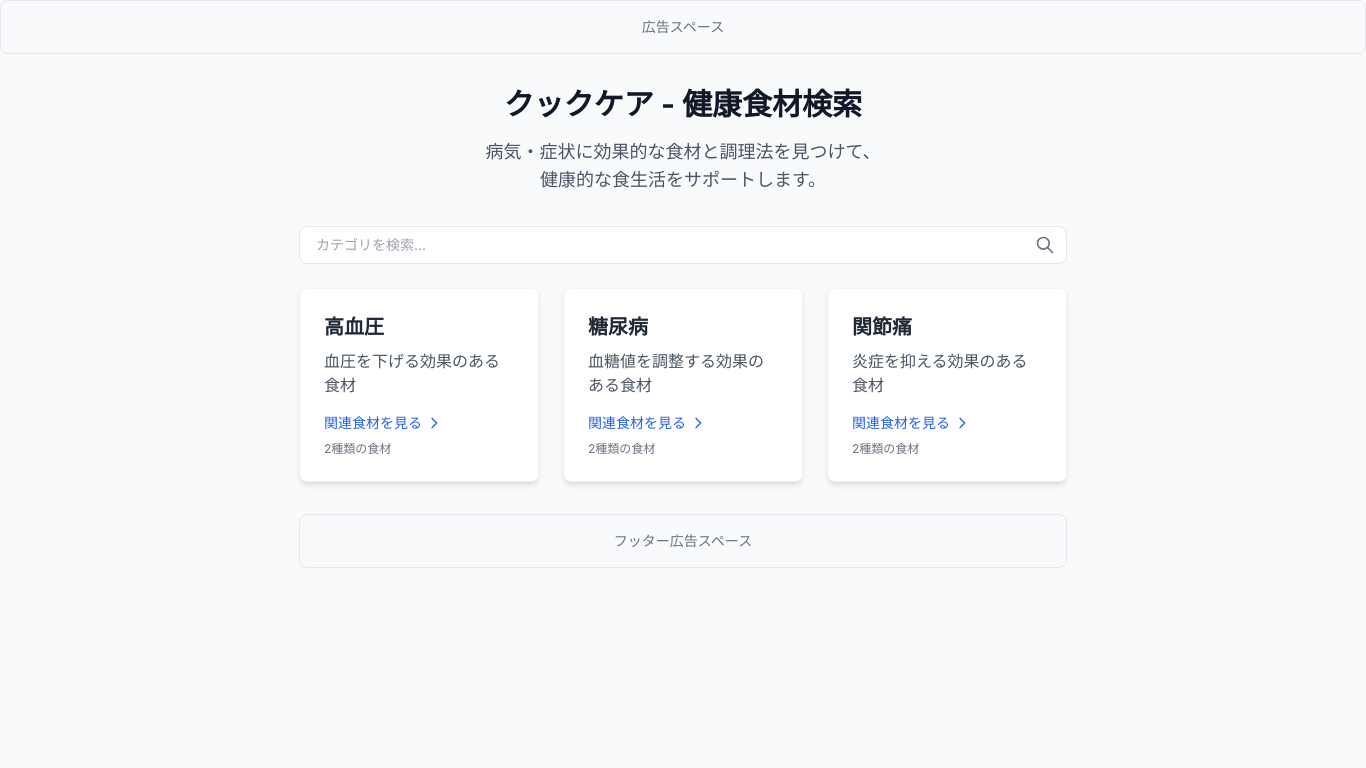
Scenario: Home Page › shows no results message when search has no matches
The image size is (1366, 768).
Expected: the heading "高血圧" is shown, [324,315,384,339]
# Search for a non-existent category
Type "存在しないカテゴリ" into the field with placeholder "カテゴリを検索...". click: coordinates (683, 245)
box: [299,226,1067,264]
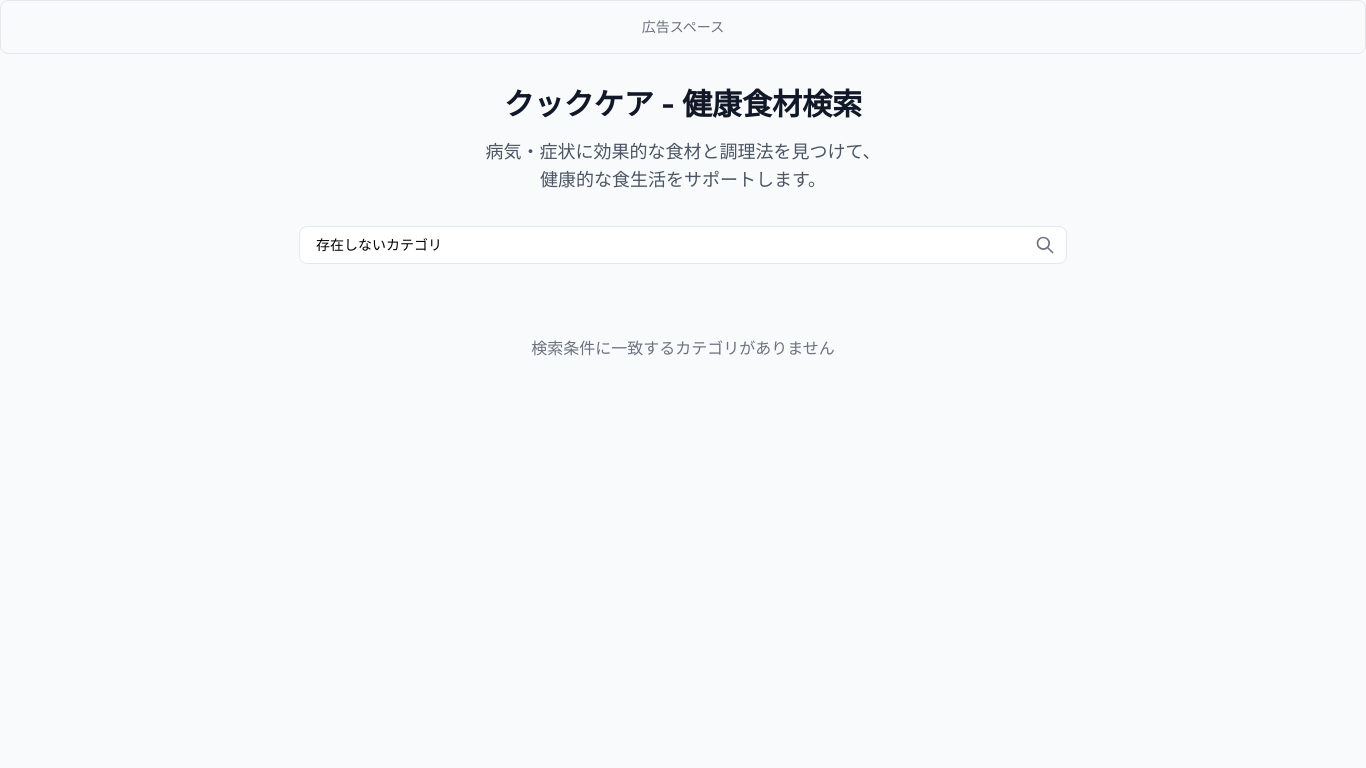
Now the text "検索条件に一致するカテゴリがありません" is shown, box [531,338,835,358]
